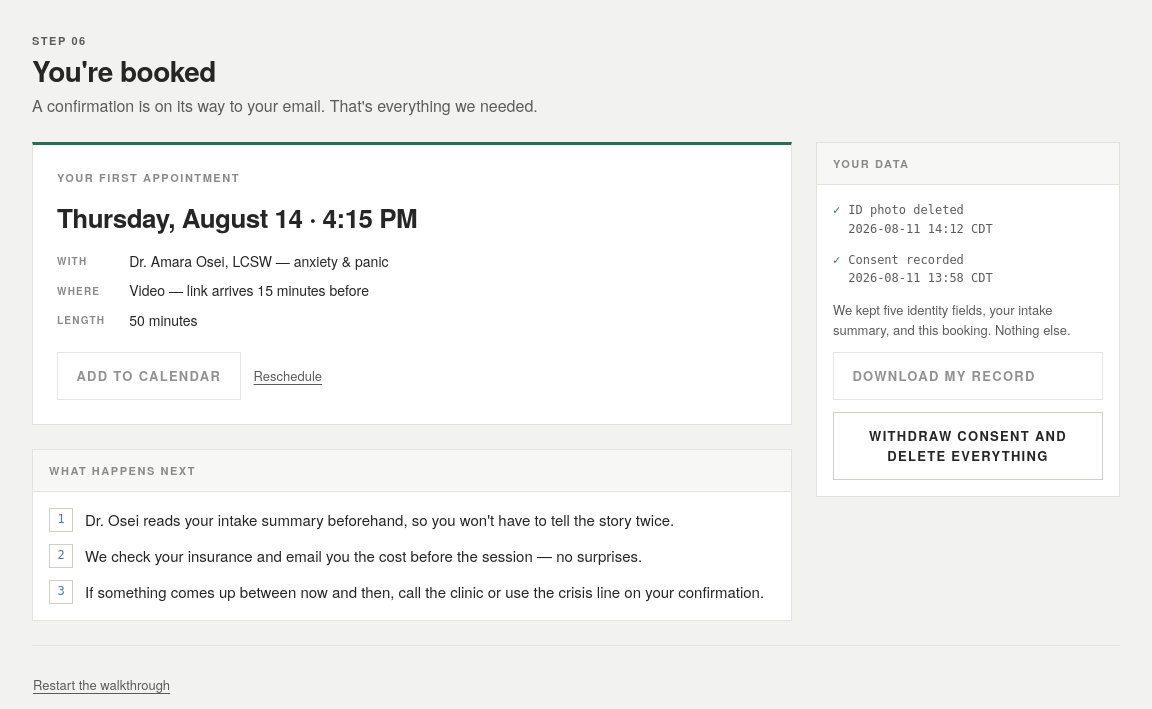
Test: done screen › states plainly that withdrawal is not wired up rather than claiming a deletion
The width and height of the screenshot is (1152, 709).
What coordinates should you click on to do the following:
click the button "Withdraw consent and delete everything"
I would click on:
 (968, 446)
Its box is [833,412,1103,480].
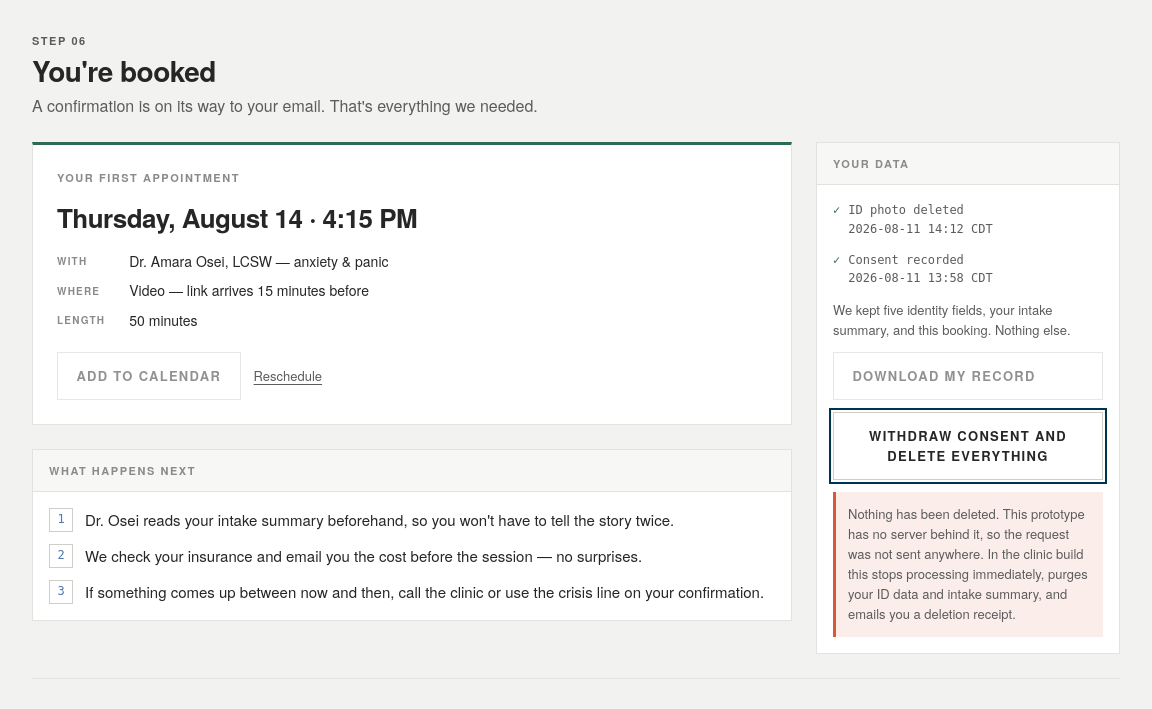
Check: the message shows "Nothing has been deleted.", box [848,504,1088,623]
Check: the message shows "the request was not sent anywhere", box [848,504,1088,623]
